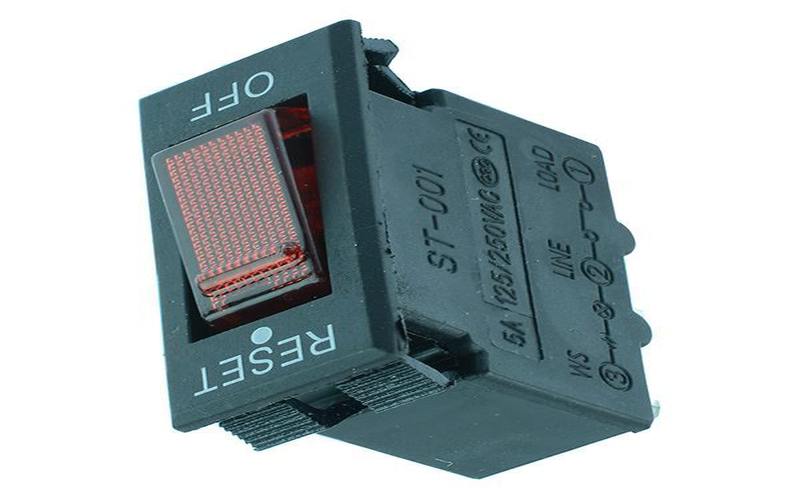Switches: (119, 11, 683, 488)
